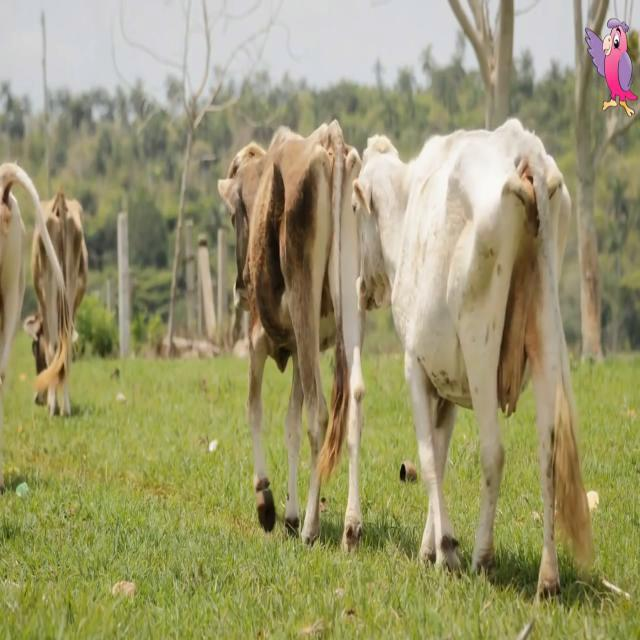cow: (355, 119, 592, 597), (219, 121, 364, 551), (0, 162, 64, 488), (25, 191, 88, 416)
